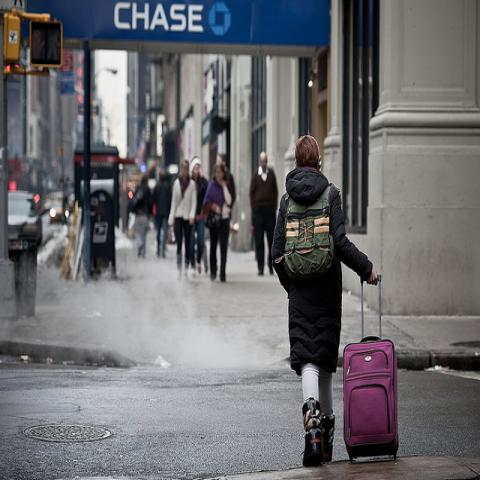car: (8, 190, 42, 252), (48, 201, 66, 224)
